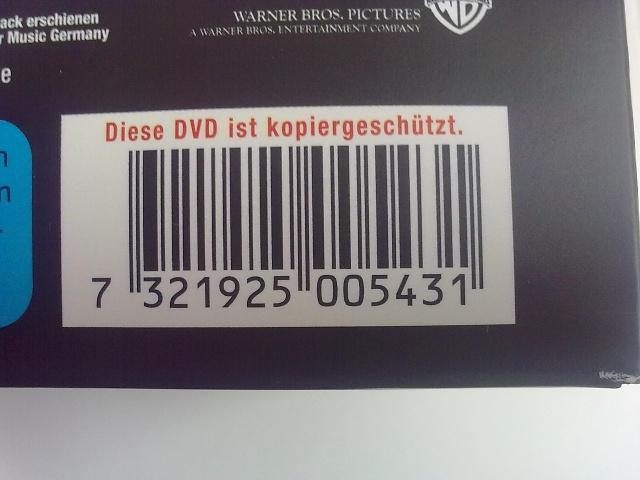Barcode: (87, 140, 491, 320)
